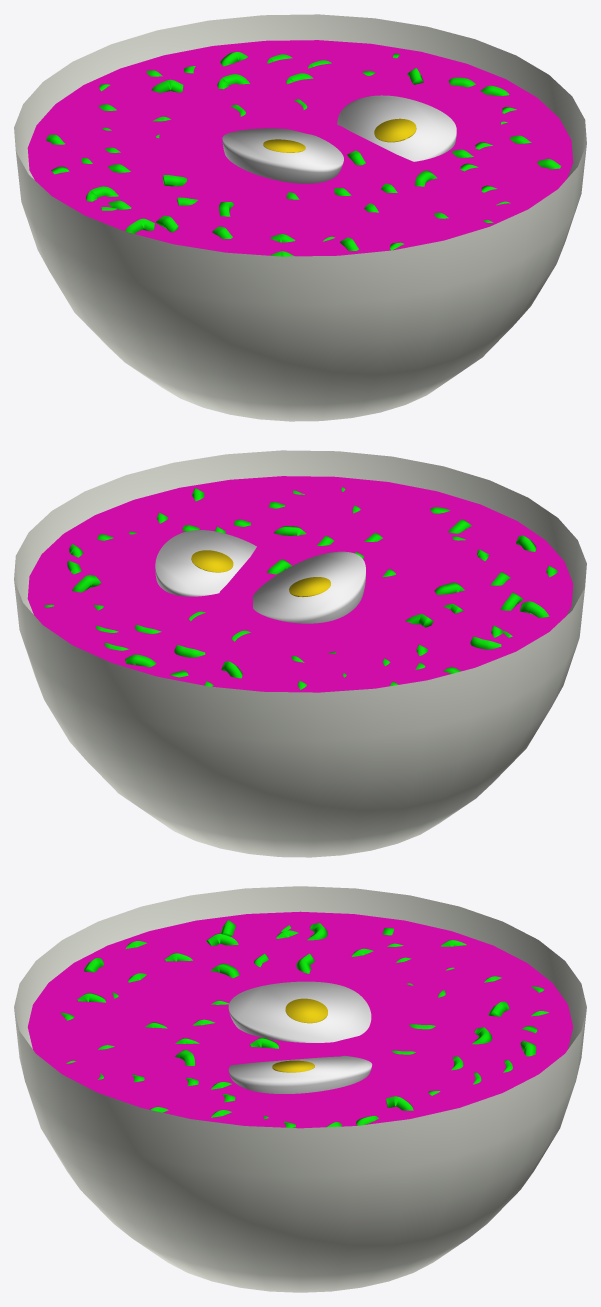
The model's file is soup.glb.
3 views of the same model, one above another, from view 1: azimuth 30°, elevation 25°; view 2: azimuth 150°, elevation 25°; view 3: azimuth 270°, elevation 25° (orthographic).
Visible parts, largest first — view 1: BézierCurve.035; view 2: BézierCurve.035; view 3: BézierCurve.035.
Boxes of the visible parts, x1,y1,x2,y2 form: BézierCurve.035: (14, 14, 586, 421); BézierCurve.035: (14, 450, 586, 857); BézierCurve.035: (14, 886, 586, 1292).
Bounding box in the file's own units: 2 × 0.8408 × 2.
